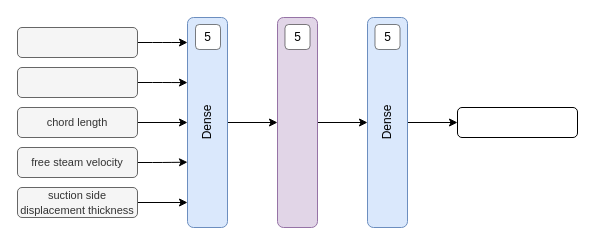
Some shapes in this 595 by 245 pixel diagram are drawn without their labels. Each missing label, with the box of its shape:
angle of attack: (16, 66, 138, 98)
frequency: (16, 26, 138, 58)
noise pressure level: (456, 106, 578, 138)
Quantum Layer: (276, 16, 318, 228)
